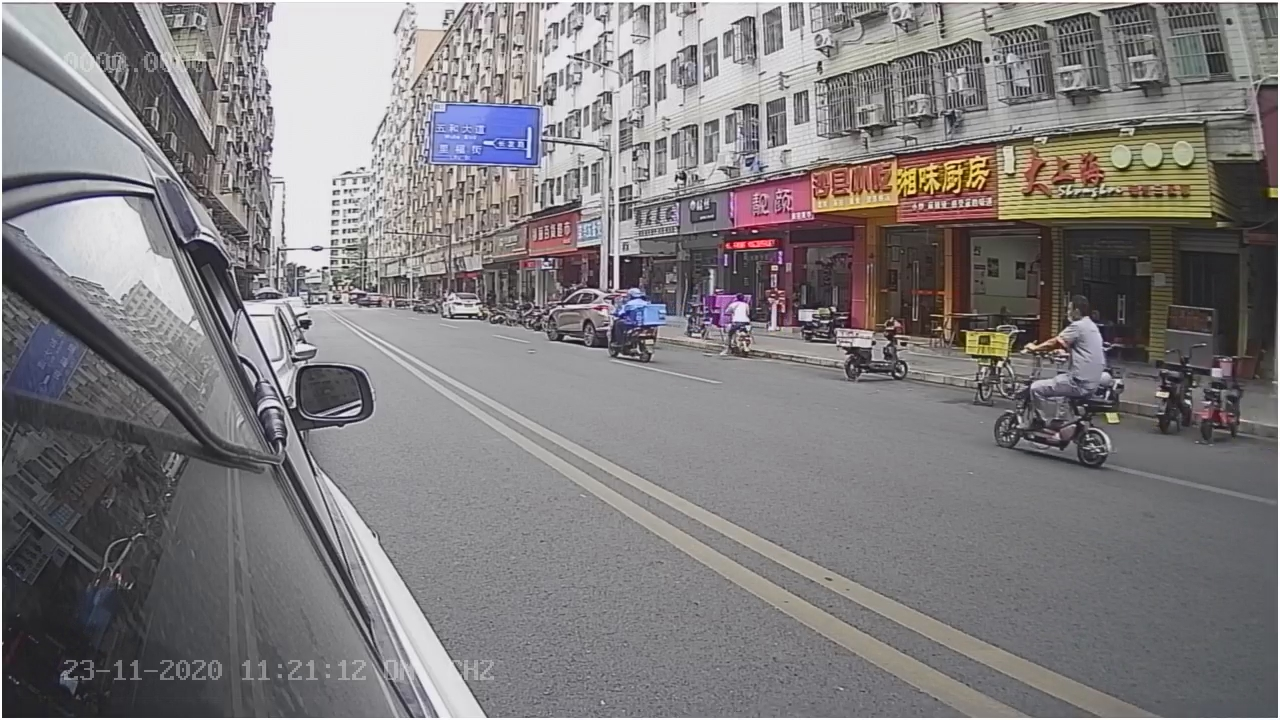person: (1048, 292, 1115, 388)
